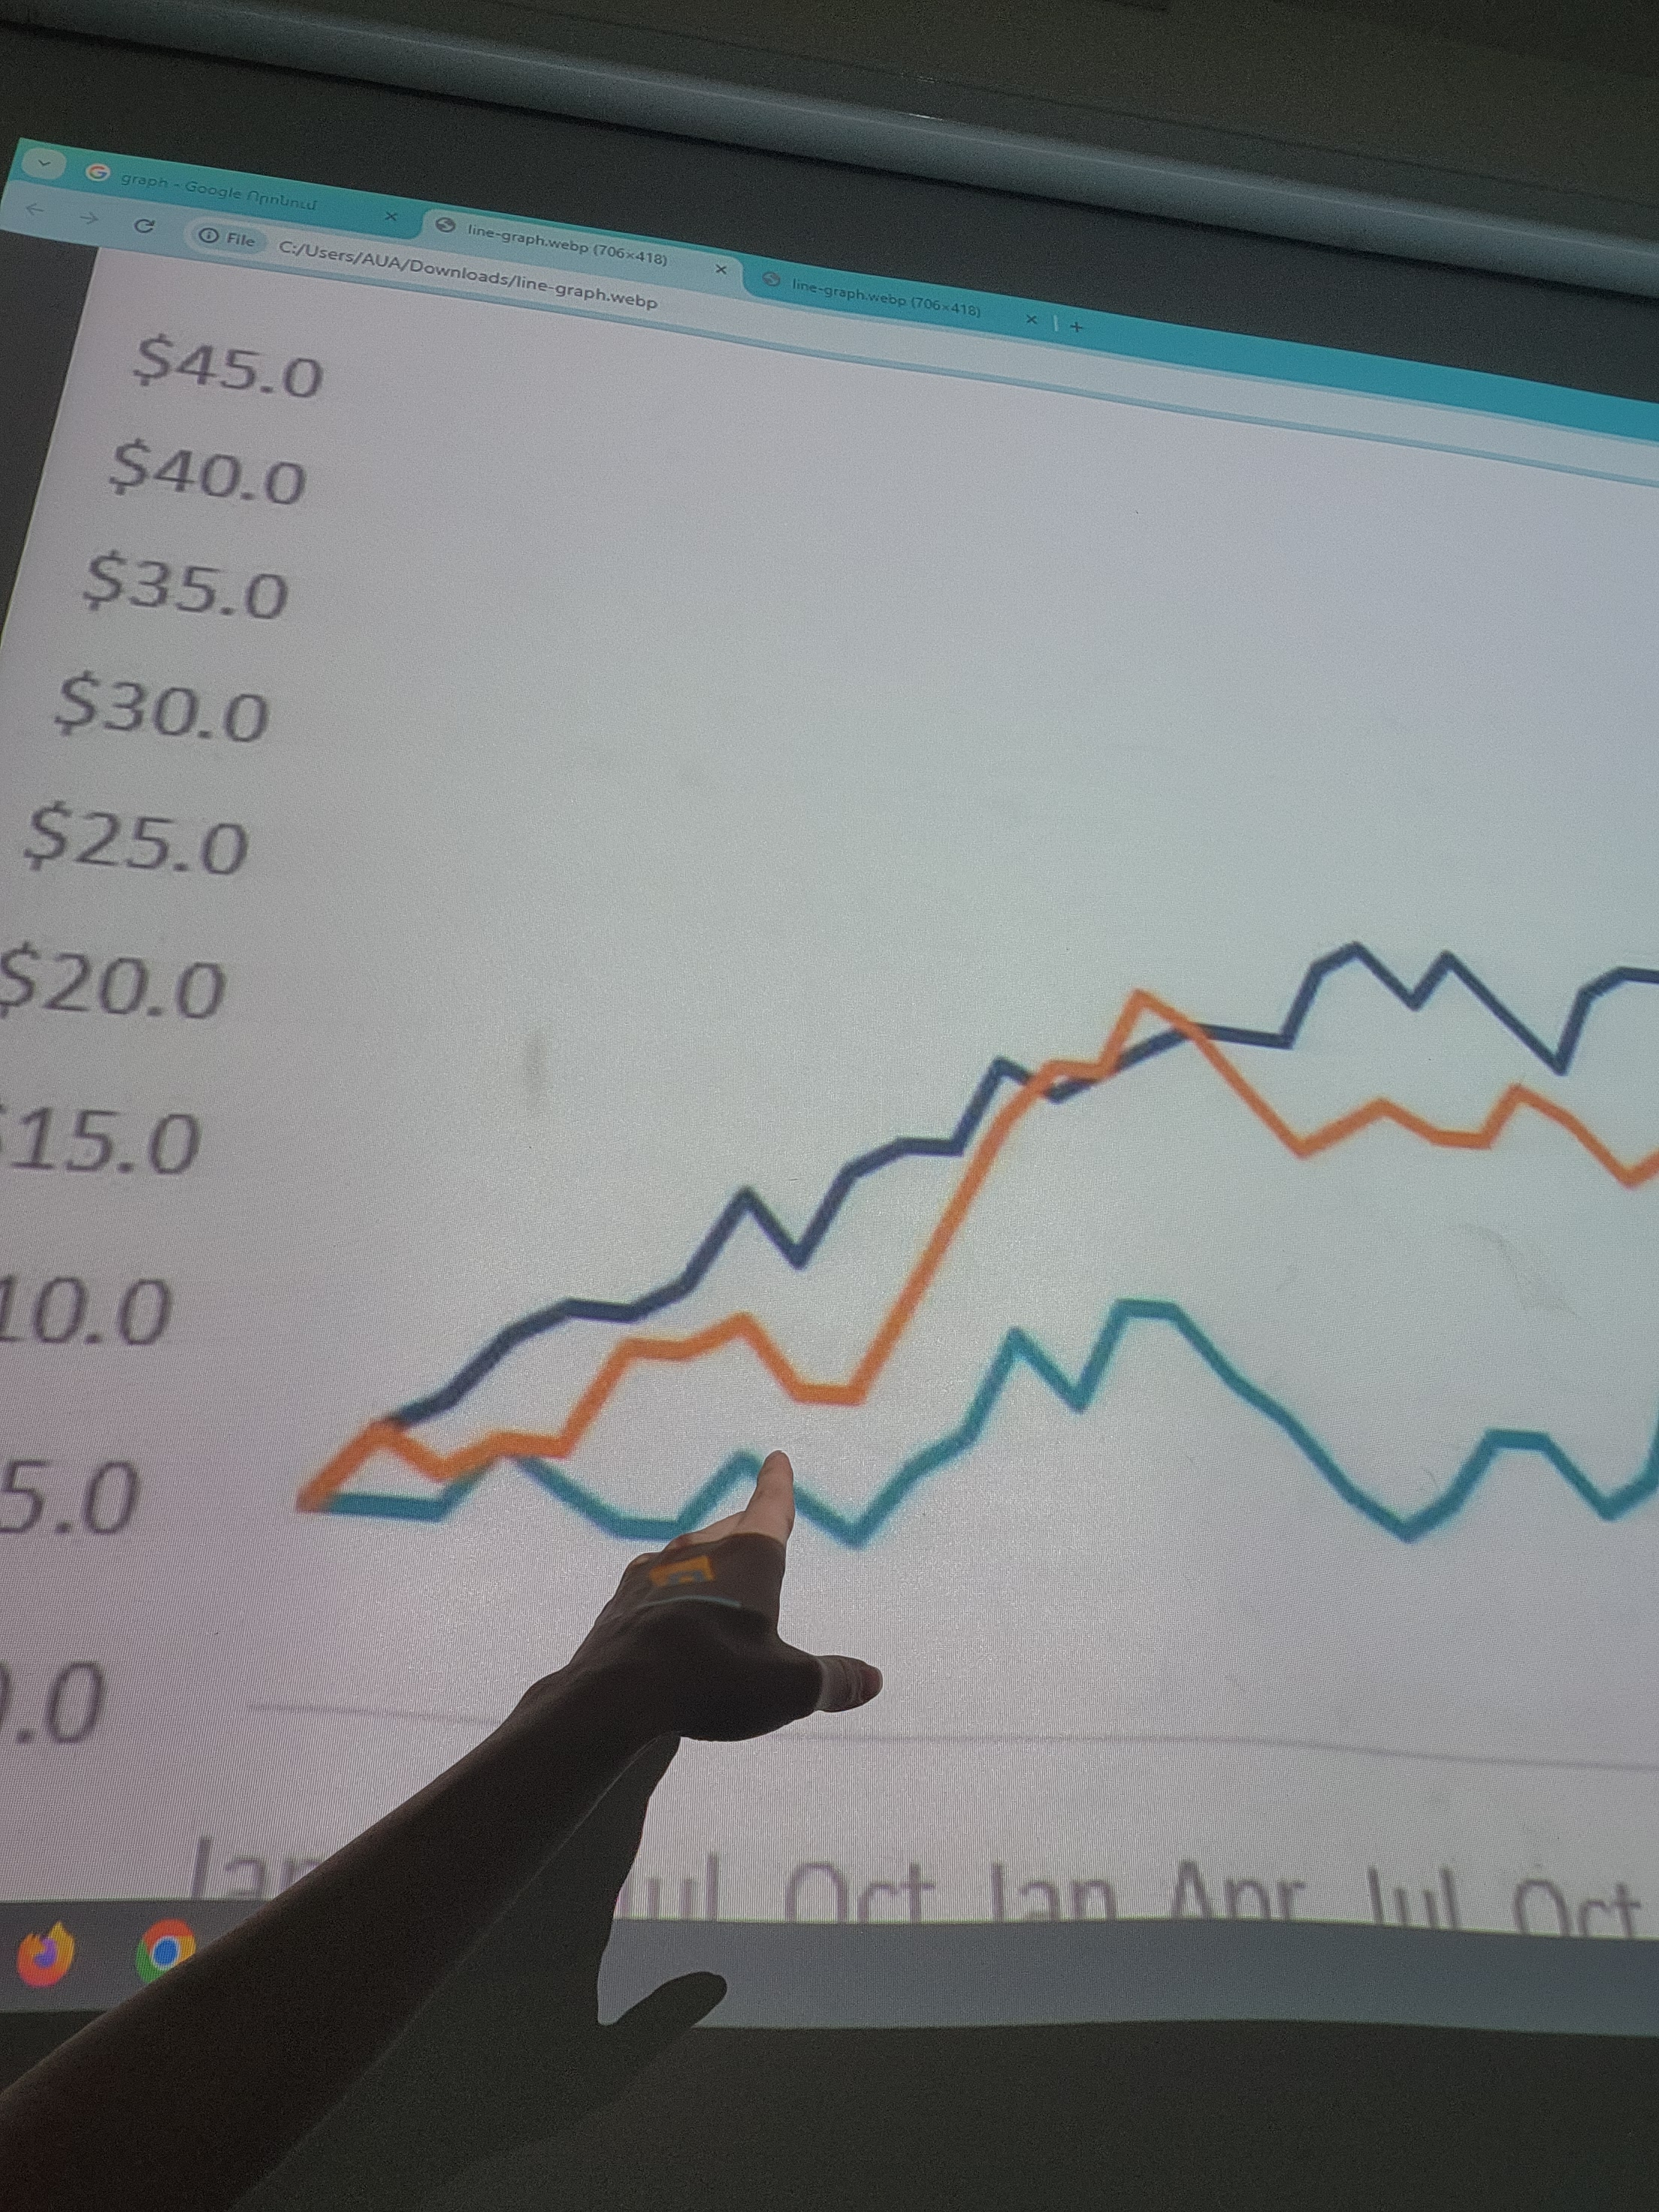pointing_gesture: (589, 1451, 887, 1780)
